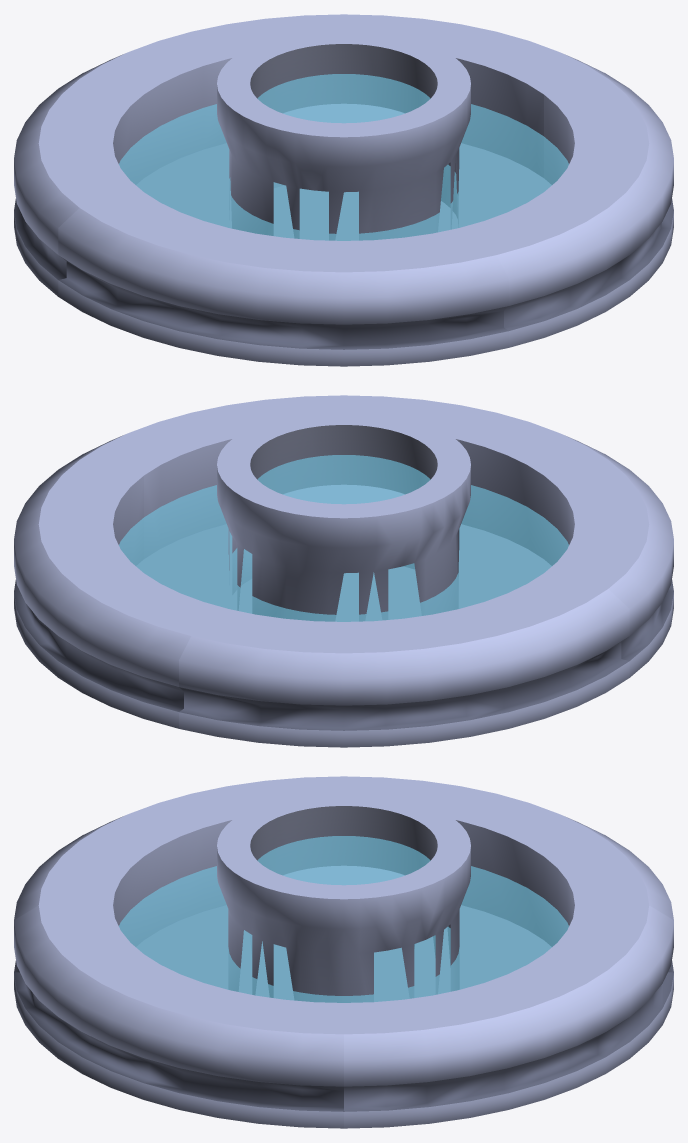
The model's file is fountain_pool_round_small.glb.
3 renders of one model, top to bottom at view 1: azimuth 30°, elevation 25°; view 2: azimuth 150°, elevation 25°; view 3: azimuth 270°, elevation 25°, orthographic.
Visible parts, largest first — view 1: fountain_pool_round_small; view 2: fountain_pool_round_small; view 3: fountain_pool_round_small.
Boxes of the visible parts, x1,y1,x2,y2 form: fountain_pool_round_small: (14, 14, 673, 366); fountain_pool_round_small: (14, 395, 673, 747); fountain_pool_round_small: (14, 776, 673, 1128).
Bounding box in the file's own units: 2 × 0.48 × 2.
10 materials, 5 textured.
